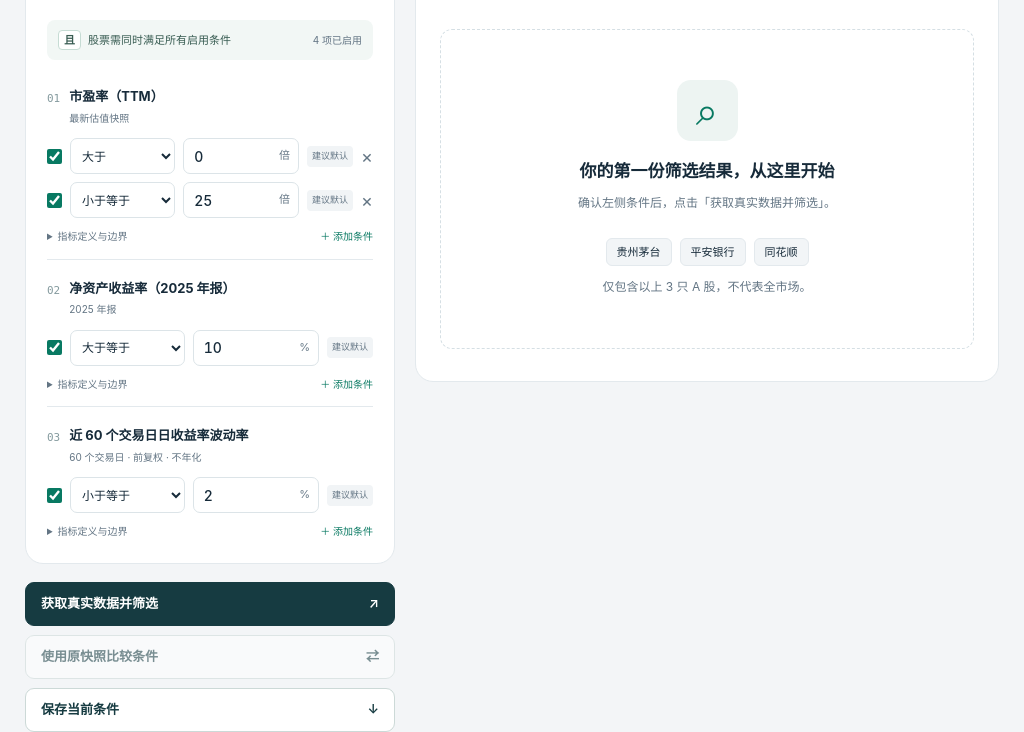
Test: builder adds metadata-defined conditions without new UI structure
(page scrolled)
Click the button "＋ 添加条件" below "净资产收益率（2025 年报）". click: (347, 384)
box: [320,376,373,392]
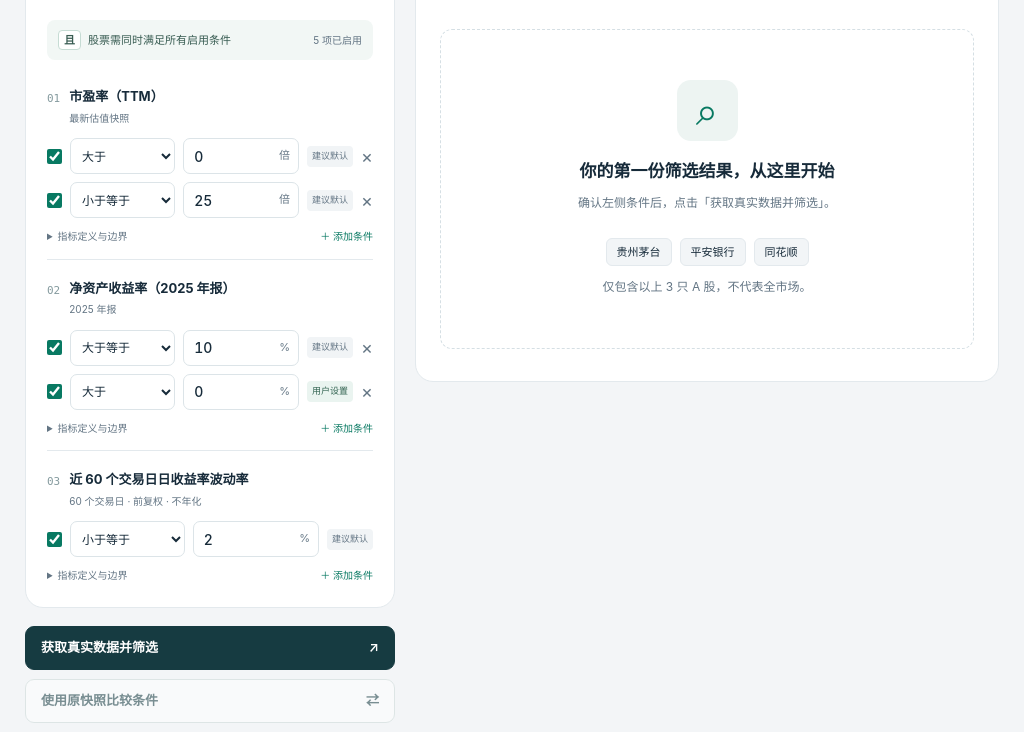
Expected: the dropdown named "年报净资产收益率条件 2 运算符" next to "用户设置" is shown, [70,374,175,410]
